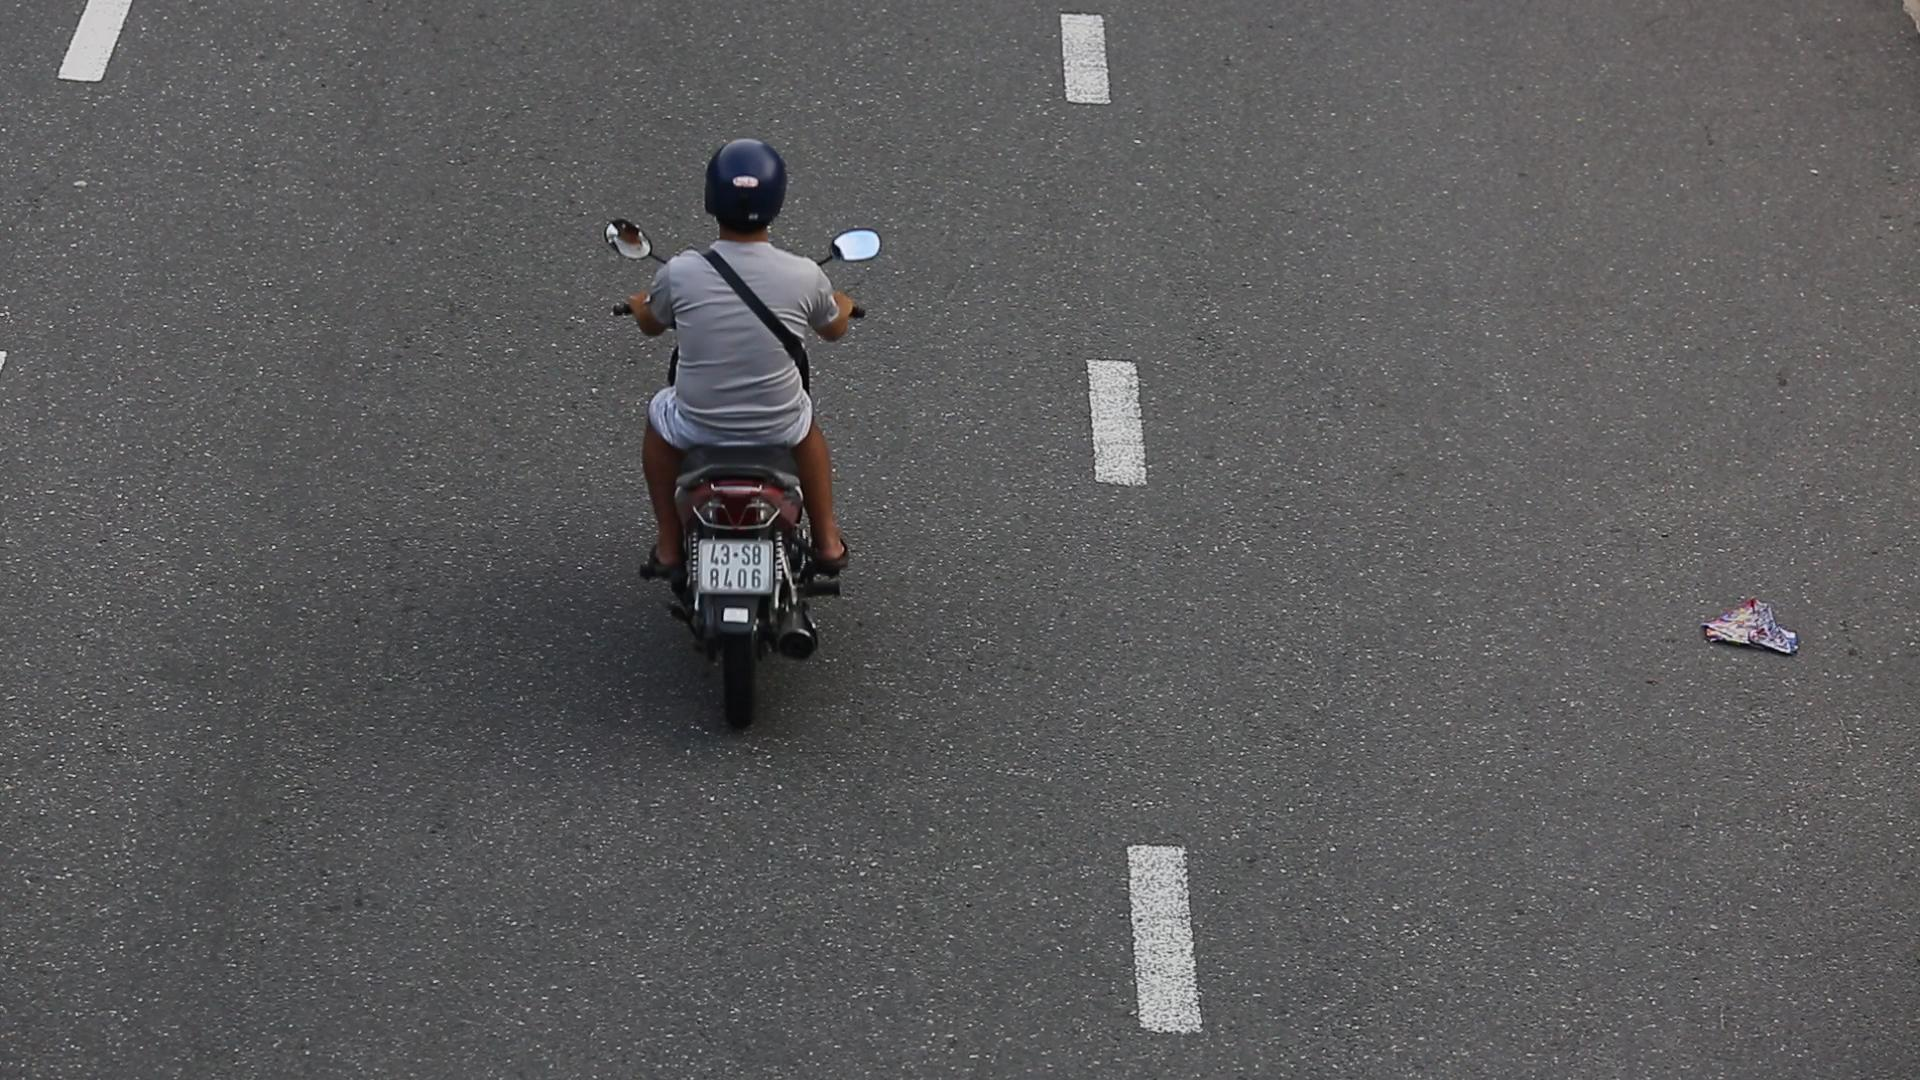motobike: (585, 136, 918, 741)
